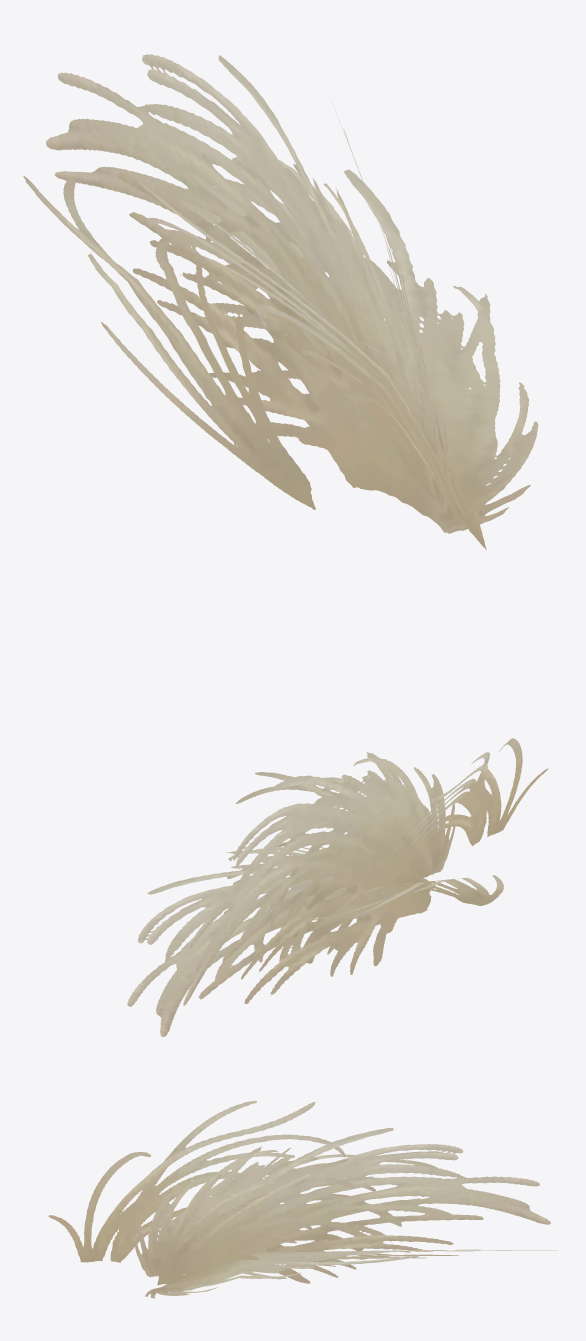
3 views of the same model, one above another, from view 1: azimuth 30°, elevation 25°; view 2: azimuth 150°, elevation 25°; view 3: azimuth 270°, elevation 25° (orthographic). The views are drawn at different scales.
Size of the model in its own units: 2.3 by 1.81 by 4.27.
Materials: 1 (1 with a texture image).
